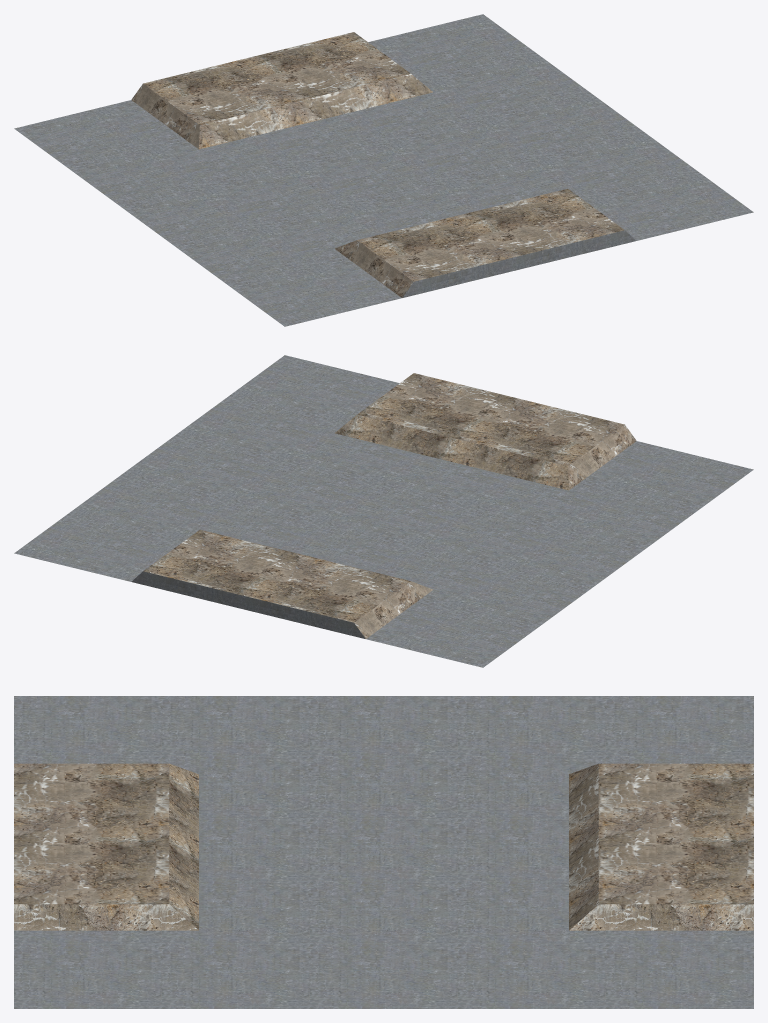
3 renders of one model, top to bottom at view 1: azimuth 30°, elevation 25°; view 2: azimuth 150°, elevation 25°; view 3: azimuth 270°, elevation 25°, orthographic. The views are drawn at different scales.
Visible parts, largest first — view 1: TexturesCom_ConcreteBare0398_7_seamless_S, TexturesCom_ConcreteRough0076_1_seamless_S; view 2: TexturesCom_ConcreteBare0398_7_seamless_S, TexturesCom_ConcreteRough0076_1_seamless_S; view 3: TexturesCom_ConcreteBare0398_7_seamless_S, TexturesCom_ConcreteRough0076_1_seamless_S.
Part boxes in pixels (<box>): TexturesCom_ConcreteBare0398_7_seamless_S: <box>14,14,753,326</box>; TexturesCom_ConcreteRough0076_1_seamless_S: <box>131,32,624,297</box>; TexturesCom_ConcreteBare0398_7_seamless_S: <box>14,355,753,667</box>; TexturesCom_ConcreteRough0076_1_seamless_S: <box>143,373,636,638</box>; TexturesCom_ConcreteBare0398_7_seamless_S: <box>14,696,753,1008</box>; TexturesCom_ConcreteRough0076_1_seamless_S: <box>14,763,753,930</box>.
Bounding box in the file's own units: 5 × 0.1384 × 5.
Materials: 2 (2 with a texture image).
